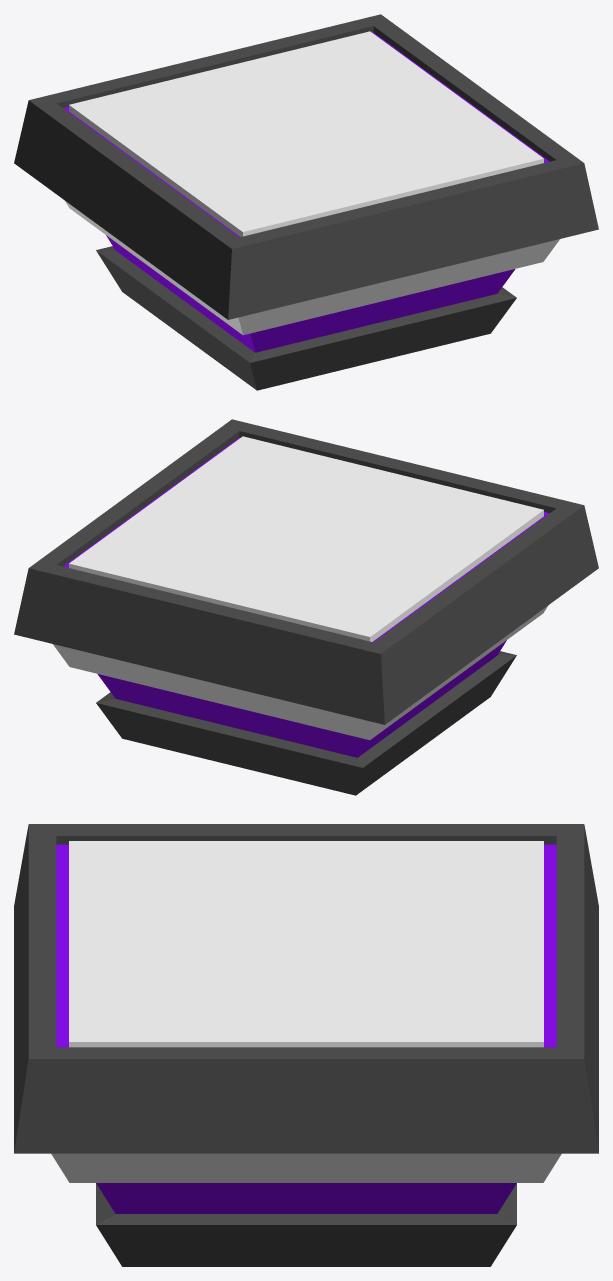
File: Quarter Tile.dae
3 renders of one model, top to bottom at view 1: azimuth 30°, elevation 25°; view 2: azimuth 150°, elevation 25°; view 3: azimuth 270°, elevation 25°, orthographic. The views are drawn at different scales.
Parts seen in each view (by area): view 1: Cube.005; view 2: Cube.005; view 3: Cube.005.
Part boxes in pixels (x1,y1,x2,y2): Cube.005: (14,14,598,390); Cube.005: (14,419,598,795); Cube.005: (14,824,598,1266).
Bounding box in the file's own units: 3 × 3 × 1.7.
